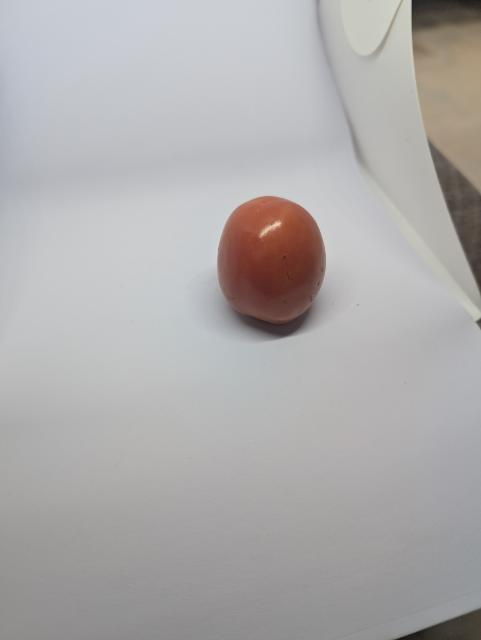red: (209, 195, 340, 334)
